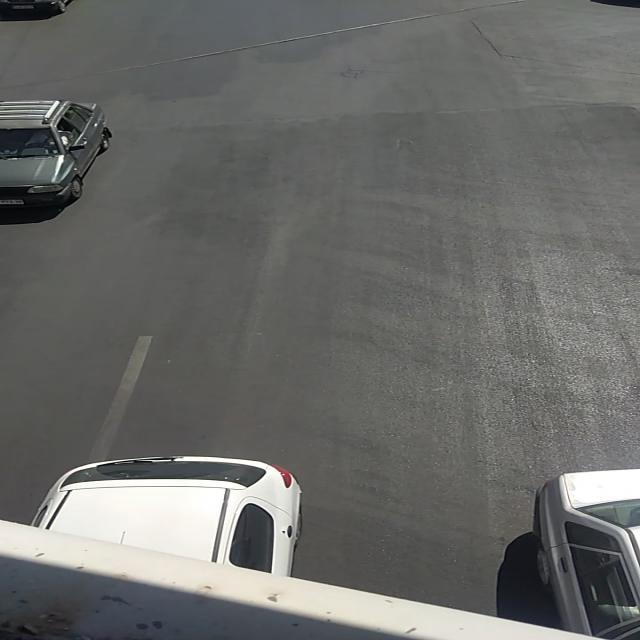car: (32, 456, 311, 574), (535, 470, 637, 639), (1, 97, 112, 211)
